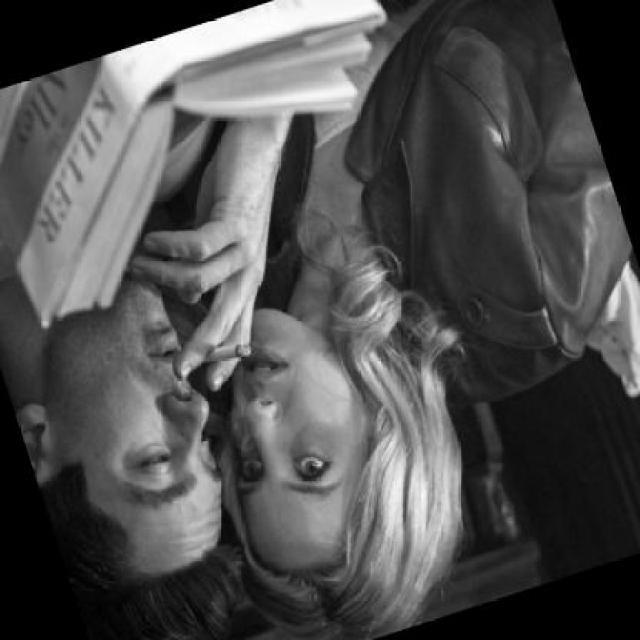cigarette: (194, 333, 254, 372)
